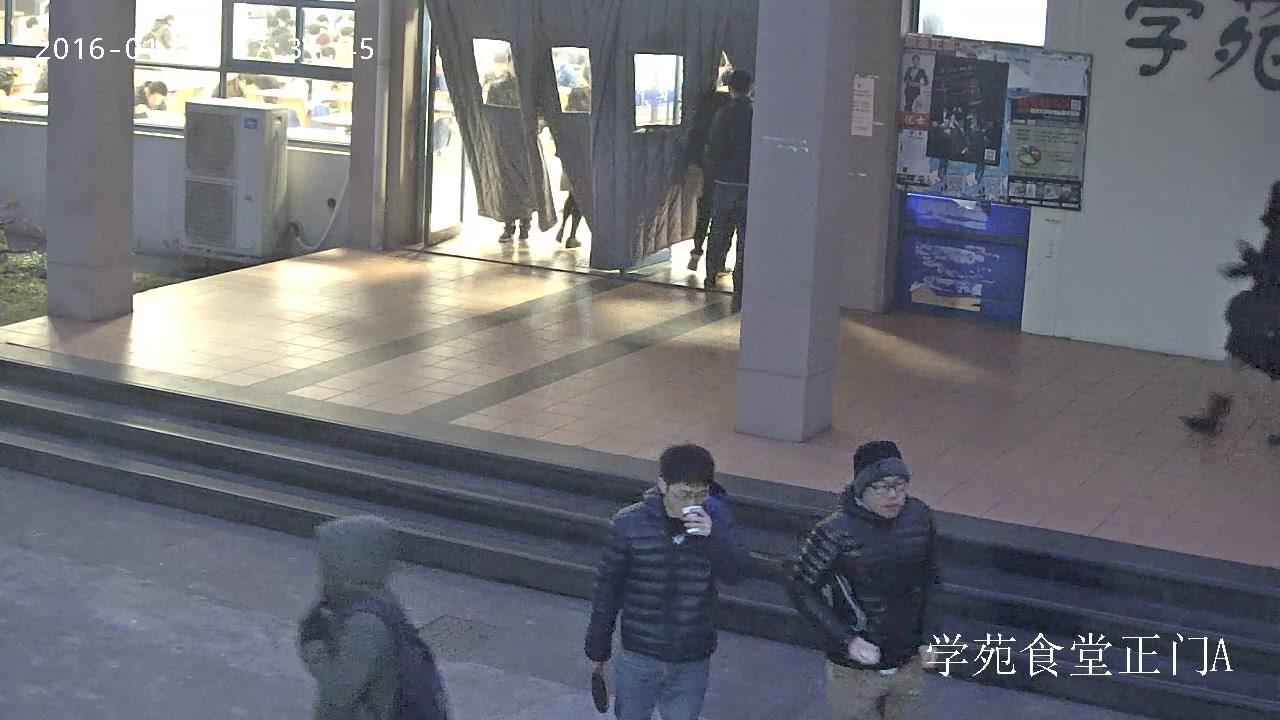person: (581, 443, 751, 720), (781, 439, 947, 720), (295, 512, 450, 720), (1181, 176, 1280, 449), (703, 69, 754, 310), (484, 51, 546, 241), (686, 68, 742, 277), (555, 63, 594, 247), (902, 54, 929, 114), (132, 78, 169, 121)
